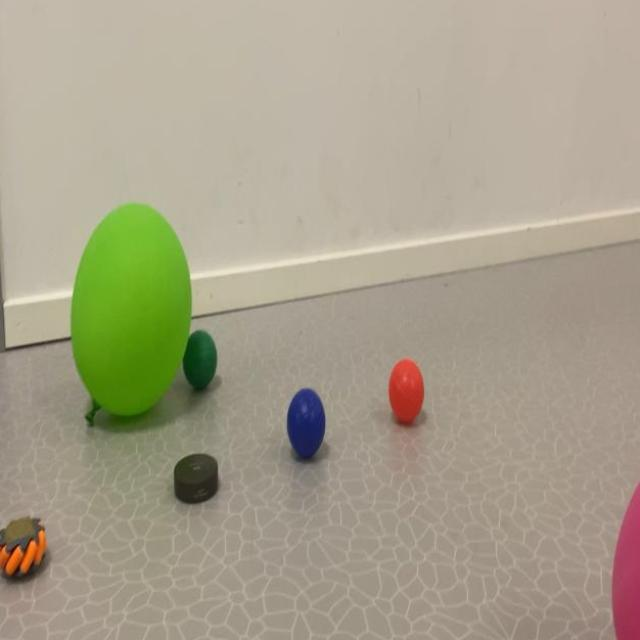blue ball: (284, 393, 330, 463)
green ball: (188, 329, 226, 394)
red ball: (390, 363, 436, 430)
